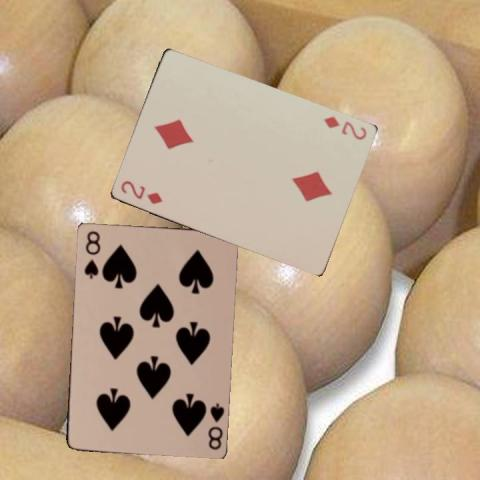2d: (320, 113, 368, 142), (118, 177, 164, 206)
8s: (81, 228, 102, 280), (205, 399, 225, 451)
